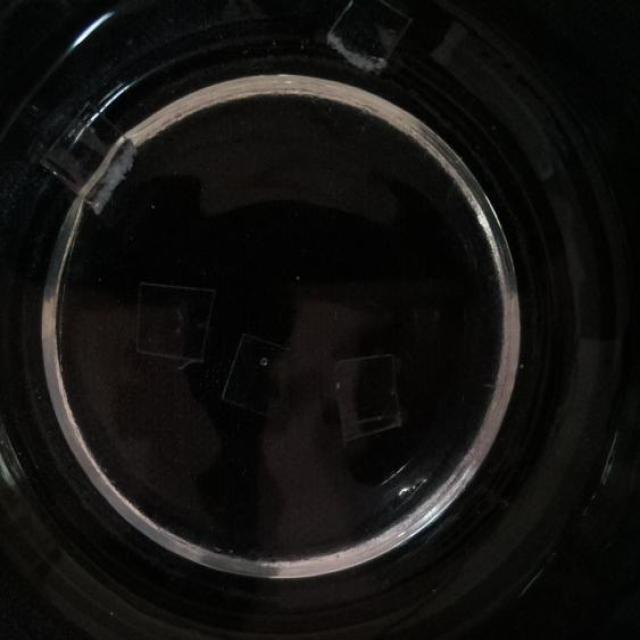fiber: (34, 100, 139, 216), (325, 0, 421, 85), (135, 277, 216, 363), (220, 328, 296, 417), (331, 350, 400, 440)
